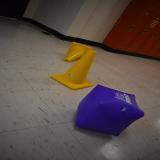cone: (50, 49, 97, 90), (64, 42, 93, 62)
cube: (75, 84, 145, 137)
